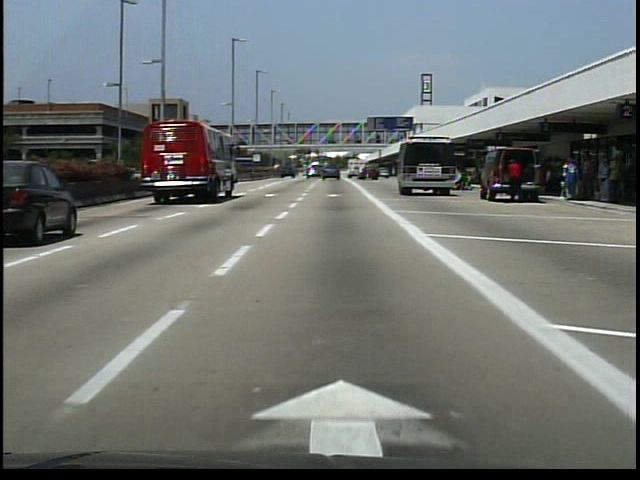person: (505, 155, 525, 208), (450, 167, 471, 193)
